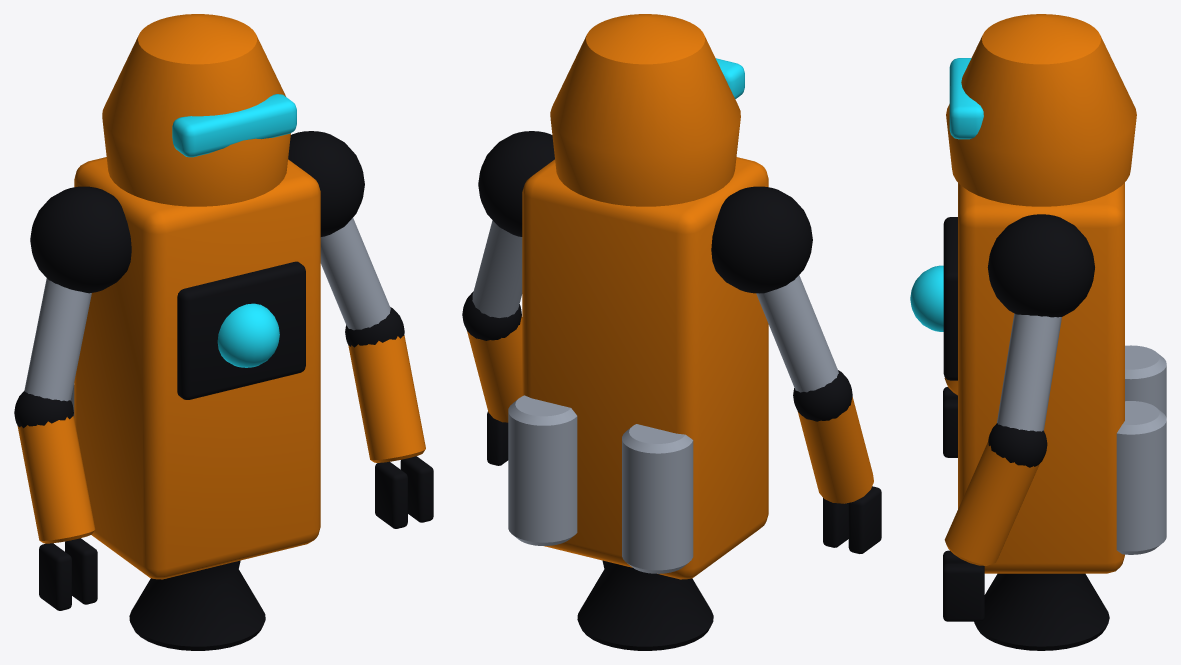
Rendered from Rocket_20_MechRocket.obj.
3 views of the same model, side by side, from view 1: azimuth 30°, elevation 25°; view 2: azimuth 150°, elevation 25°; view 3: azimuth 270°, elevation 25° (orthographic).
Visible parts, largest first — view 1: R20_Torso, R20_Head, R20_Chest, R20_Nozzle, R20_Shoulder_2, R20_Forearm_2, R20_Forearm, R20_UpperArm_2, R20_Shoulder, R20_UpperArm, R20_Visor, R20_Core (+6 smaller); view 2: R20_Torso, R20_Head, R20_Jet_2, R20_Jet, R20_Nozzle, R20_Shoulder_2, R20_UpperArm_2, R20_Forearm_2, R20_Shoulder, R20_UpperArm, R20_Forearm, R20_Elbow_2 (+5 smaller); view 3: R20_Torso, R20_Head, R20_Shoulder, R20_Nozzle, R20_Jet, R20_Forearm, R20_UpperArm, R20_Claw_2, R20_Chest, R20_Jet_2, R20_Visor, R20_Elbow (+2 smaller).
Part boxes in pixels (x1=…): R20_Torso: x1=74, y1=157, x2=320, y2=579; R20_Head: x1=102, y1=14, x2=290, y2=206; R20_Chest: x1=177, y1=261, x2=305, y2=399; R20_Nozzle: x1=129, y1=560, x2=265, y2=650; R20_Shoulder_2: x1=30, y1=186, x2=131, y2=293; R20_Forearm_2: x1=17, y1=416, x2=95, y2=543; R20_Forearm: x1=348, y1=335, x2=425, y2=462; R20_UpperArm_2: x1=24, y1=278, x2=91, y2=401; R20_Shoulder: x1=288, y1=131, x2=364, y2=236; R20_UpperArm: x1=320, y1=218, x2=390, y2=330; R20_Visor: x1=172, y1=94, x2=296, y2=157; R20_Core: x1=217, y1=303, x2=279, y2=367; R20_Torso: x1=522, y1=157, x2=768, y2=579; R20_Head: x1=550, y1=14, x2=740, y2=206; R20_Jet_2: x1=622, y1=424, x2=693, y2=573; R20_Jet: x1=508, y1=395, x2=577, y2=545; R20_Nozzle: x1=577, y1=560, x2=713, y2=650; R20_Shoulder_2: x1=711, y1=186, x2=812, y2=293; R20_UpperArm_2: x1=756, y1=275, x2=838, y2=392; R20_Forearm_2: x1=797, y1=397, x2=873, y2=503; R20_Shoulder: x1=478, y1=131, x2=554, y2=236; R20_UpperArm: x1=472, y1=220, x2=522, y2=317; R20_Forearm: x1=467, y1=316, x2=522, y2=422; R20_Elbow_2: x1=793, y1=370, x2=852, y2=421; R20_Torso: x1=958, y1=183, x2=1124, y2=573; R20_Head: x1=946, y1=14, x2=1136, y2=206; R20_Shoulder: x1=987, y1=214, x2=1094, y2=317; R20_Nozzle: x1=974, y1=573, x2=1109, y2=650; R20_Jet: x1=1116, y1=401, x2=1166, y2=554; R20_Forearm: x1=944, y1=441, x2=1039, y2=565; R20_UpperArm: x1=997, y1=313, x2=1061, y2=431; R20_Claw_2: x1=943, y1=563, x2=984, y2=621; R20_Chest: x1=943, y1=217, x2=957, y2=380; R20_Jet_2: x1=1125, y1=345, x2=1166, y2=417; R20_Visor: x1=949, y1=58, x2=983, y2=139; R20_Elbow: x1=988, y1=423, x2=1047, y2=467.
Bounding box in the file's own units: 3.7 × 5.6 × 2.15.
